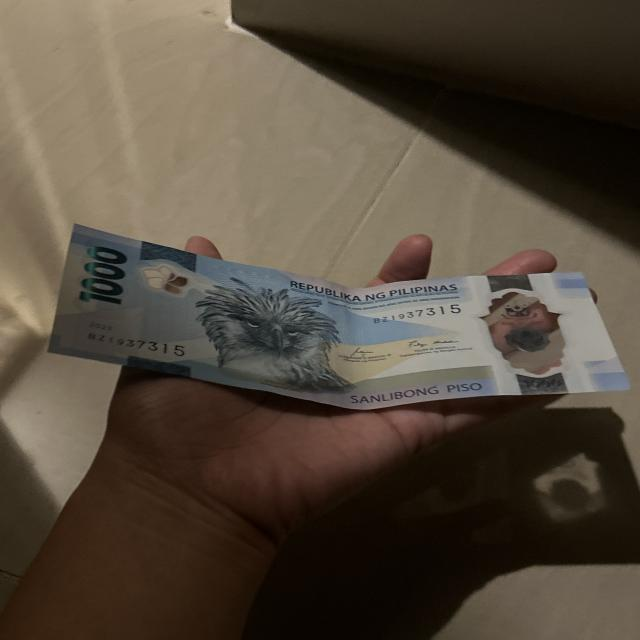clear_window: (473, 285, 582, 379)
eagle: (197, 272, 346, 390)
sampaguita: (138, 262, 188, 309)
serial_number: (75, 332, 189, 353), (370, 302, 464, 324)
value: (82, 244, 130, 311)
